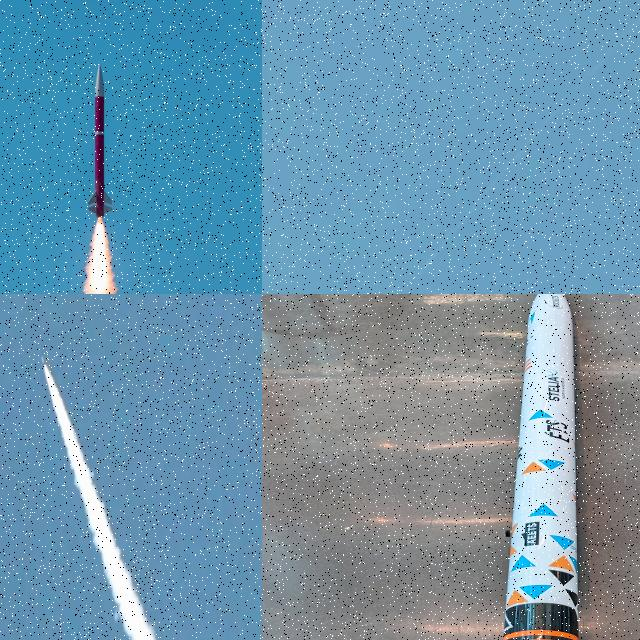Rocket: (502, 294, 579, 640), (87, 63, 115, 220), (423, 262, 429, 270), (42, 356, 45, 367)
